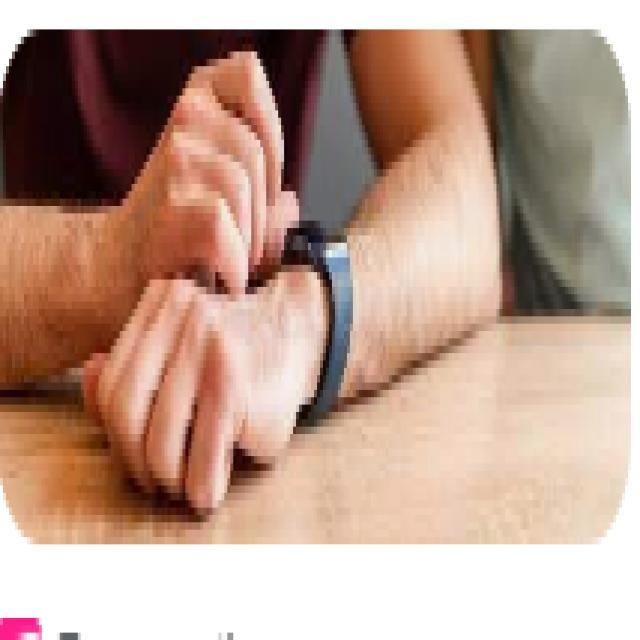Watch: (280, 215, 356, 410)
